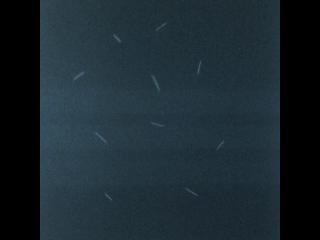scratch: (182, 184, 202, 199), (146, 72, 159, 94), (72, 68, 88, 84), (101, 187, 116, 203), (92, 131, 108, 146), (152, 20, 168, 34), (193, 59, 204, 79), (213, 136, 225, 152), (112, 32, 123, 44), (150, 121, 165, 128)
